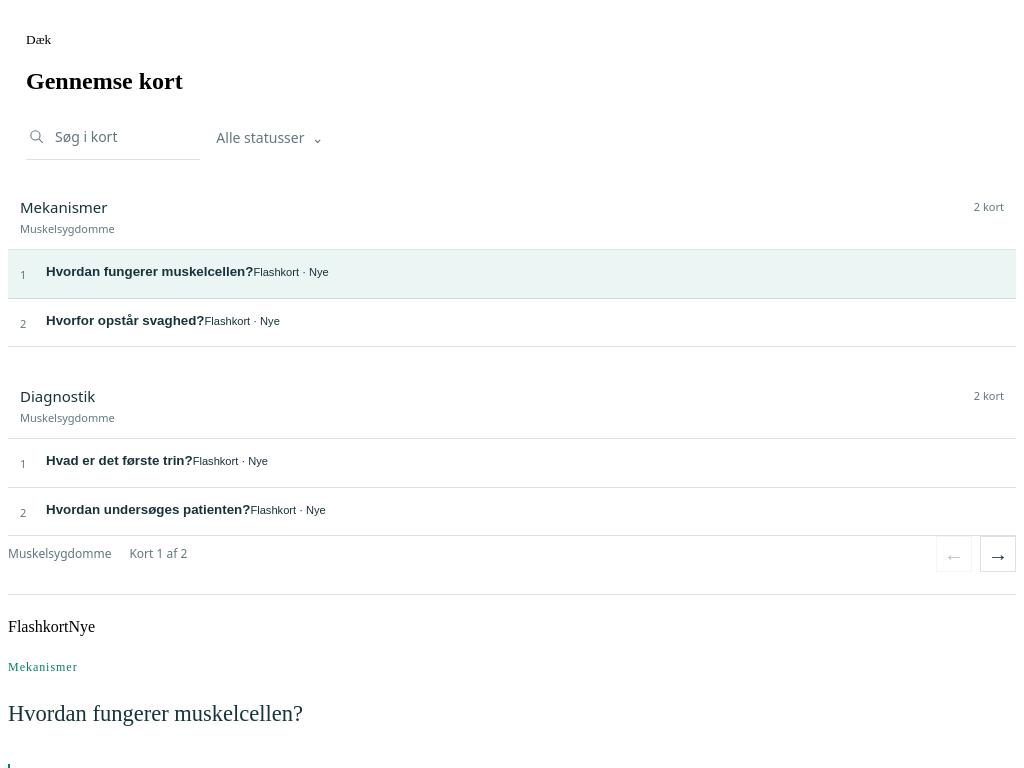
Test: the reading controls move through matching cards while preserving section context
Check: the element with class "mf791-reading-context" is shown, box [8,536,1016,595]
Check: the element with class "mf791-reading-context" shows "Muskelsygdomme", box [8,545,111,562]
Click the button named "Næste kort" at (998, 554), box [980,536,1016,572]
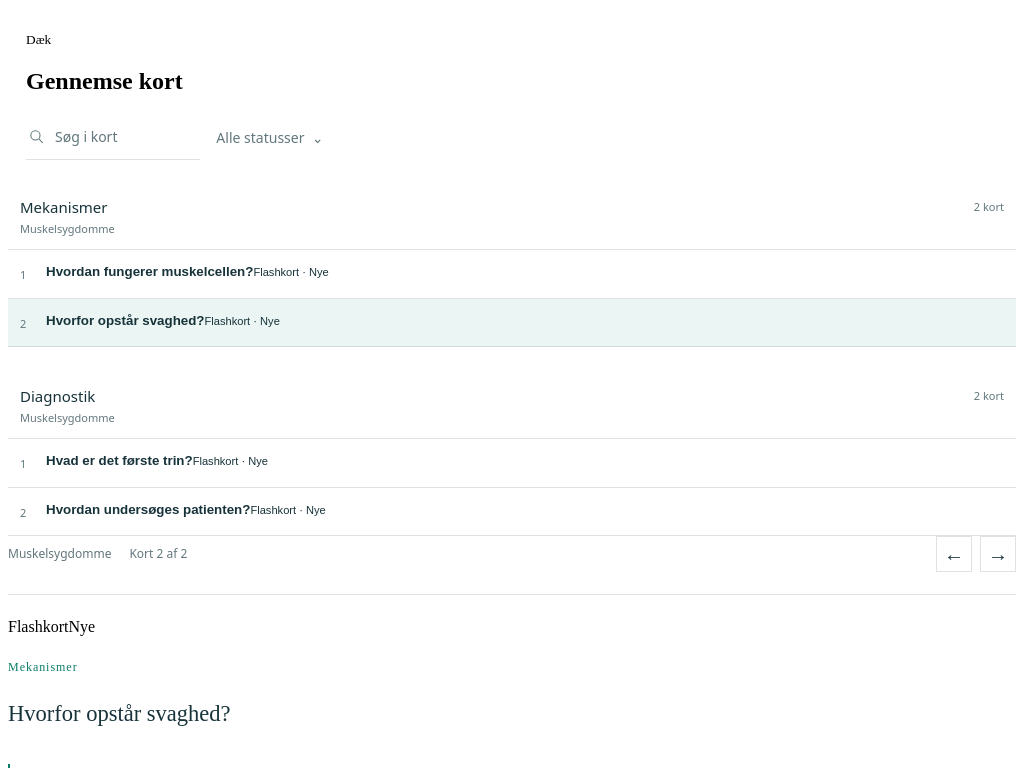
Check: the element with class "mf799-question" reads "Hvorfor opstår svaghed?", box [8,701,231,726]
Check: the element with class "mf791-reading-context" shows "Kort 2 af 2", box [129,545,187,562]
Click the button named "Næste kort" at (998, 554), box [980,536,1016,572]
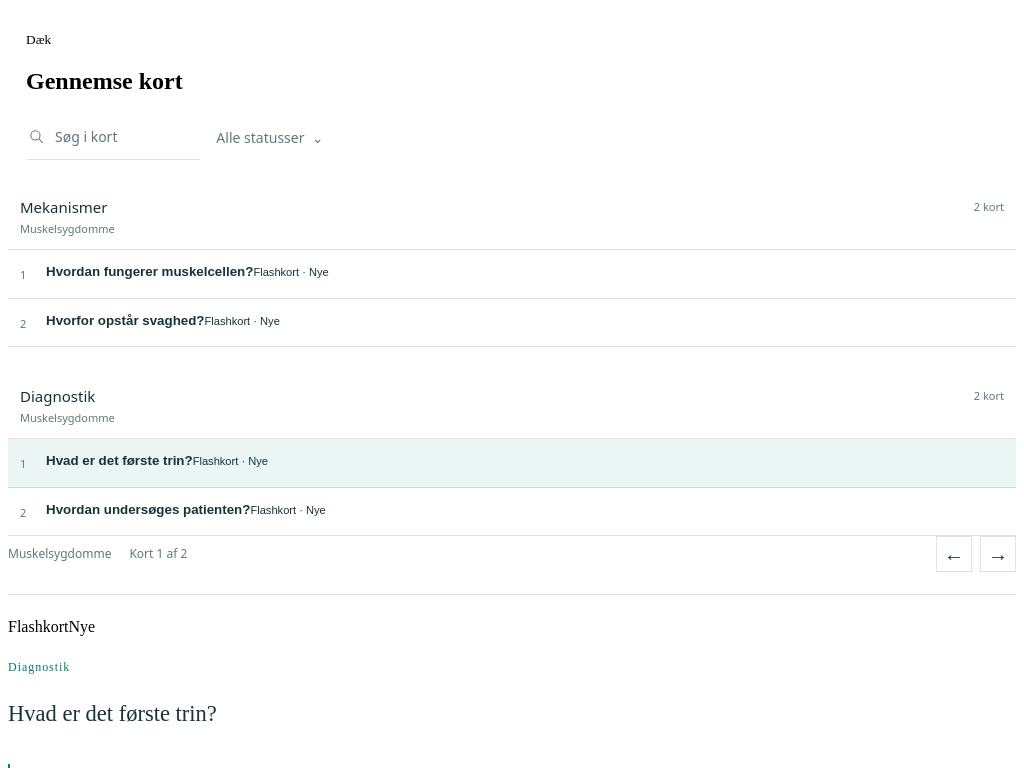
Check: the element with class "mf800-card-context" reads "Diagnostik", box [8,660,70,674]
Check: the element with class "mf791-reading-context" shows "Kort 1 af 2", box [129,545,187,562]
Click the button named "Forrige kort" at (954, 554), box [936,536,972,572]
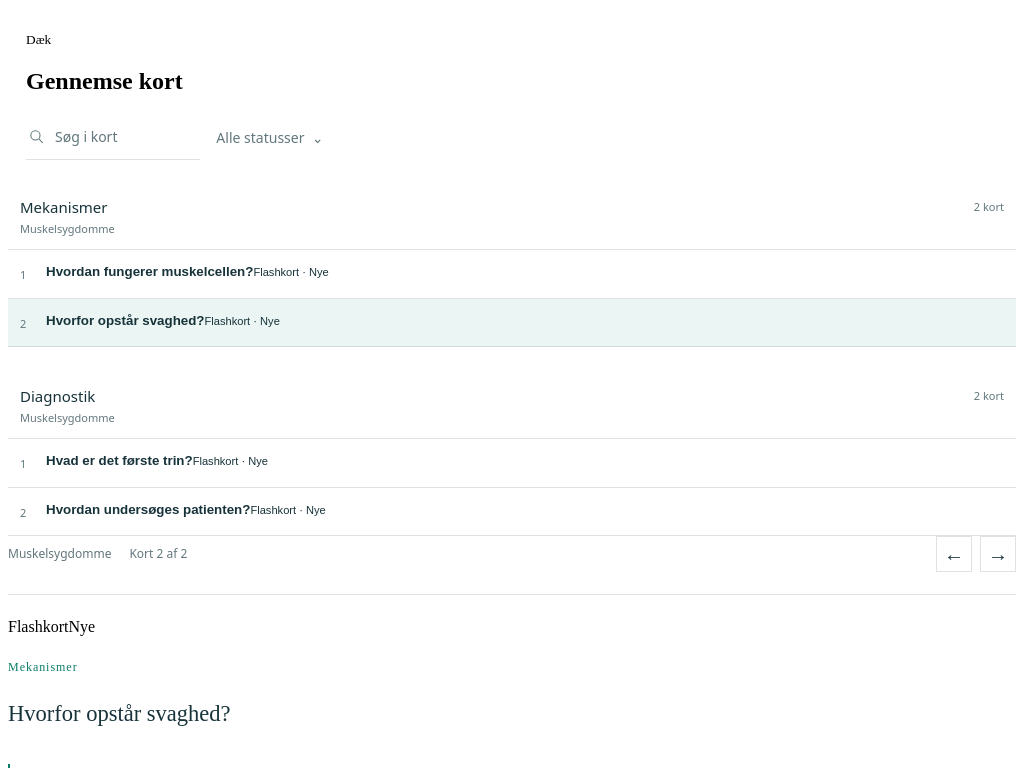
Check: the element with class "mf799-question" reads "Hvorfor opstår svaghed?", box [8,701,231,726]
